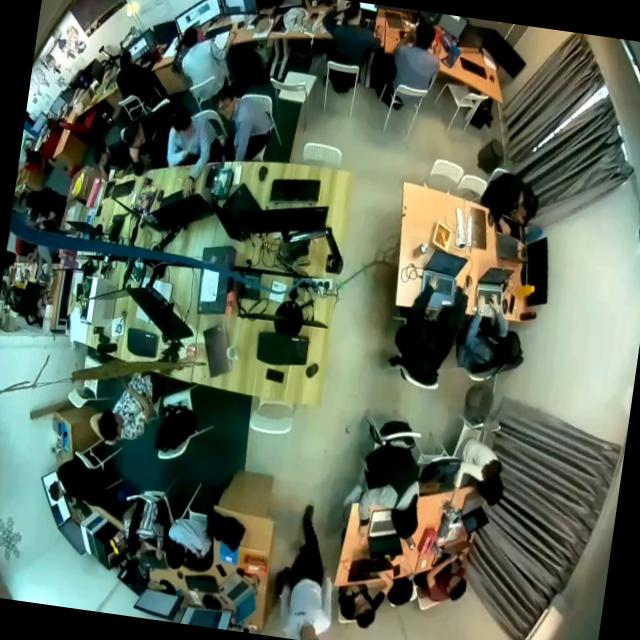employee_tag: (293, 604, 308, 624)
